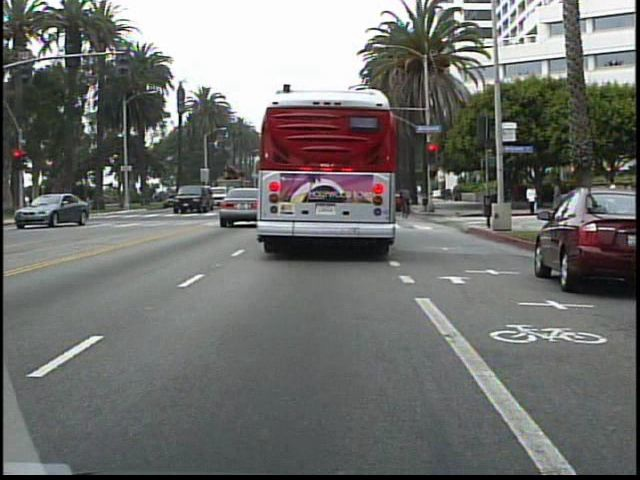person: (606, 173, 623, 221), (397, 181, 417, 216), (549, 178, 567, 214), (524, 182, 540, 215)
